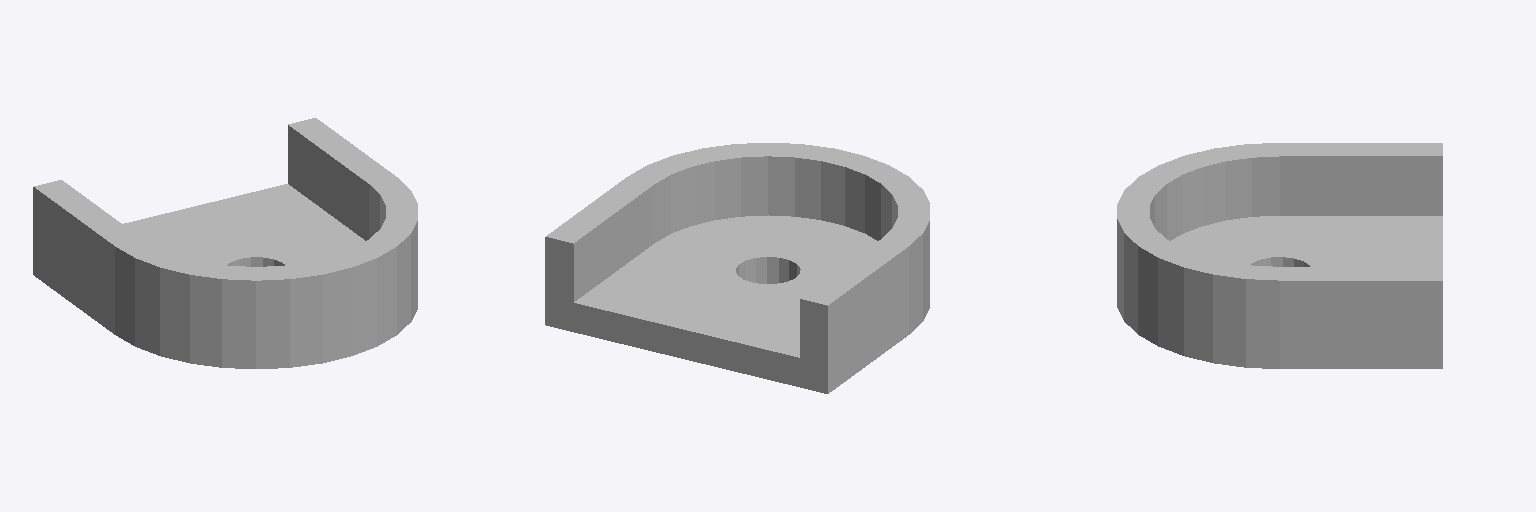
File: End.obj
3 renders of one model, left to right at view 1: azimuth 30°, elevation 25°; view 2: azimuth 150°, elevation 25°; view 3: azimuth 270°, elevation 25°, orthographic.
Visible parts, largest first — view 1: End_; view 2: End_; view 3: End_.
Boxes of the visible parts, <box> form: End_: <box>33,118,417,368</box>; End_: <box>545,143,929,393</box>; End_: <box>1117,143,1442,368</box>.
Size of the model in its own units: 2 by 0.6 by 1.99.